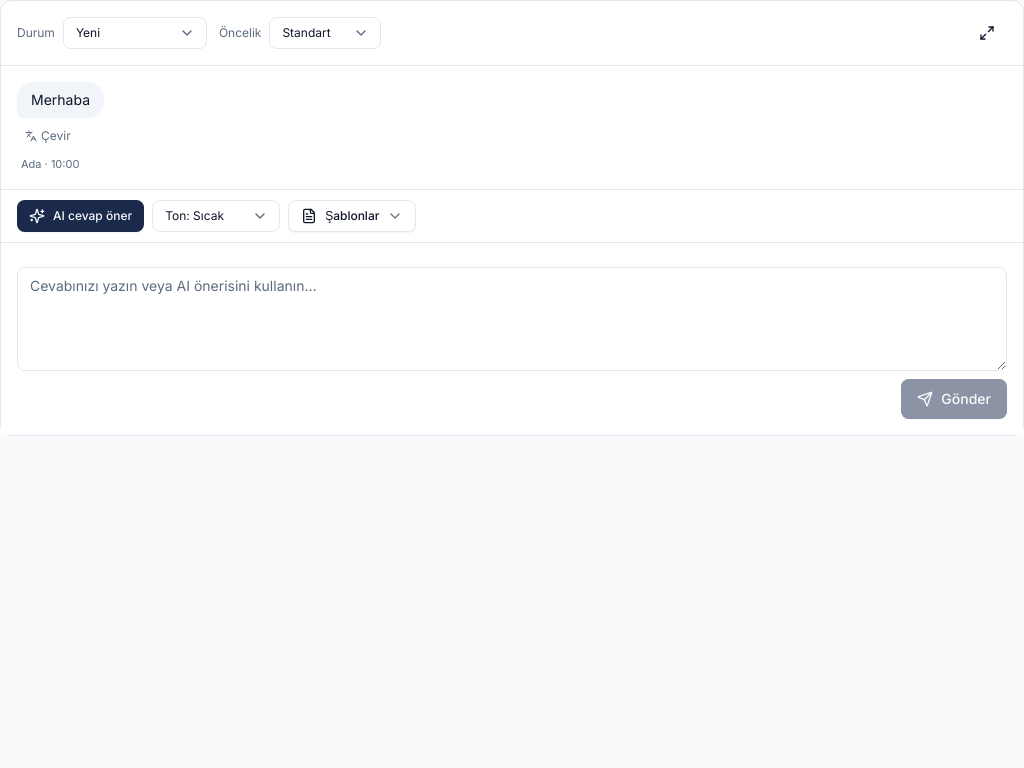
Scenario: şablon seçici — sayfalı liste + seçilince tam metin › ağ hatasında kendi metni duyurulur (sunucu iletisi yoksa)
Click the button "Şablonlar" at x=352, y=216, box [288,200,416,232]
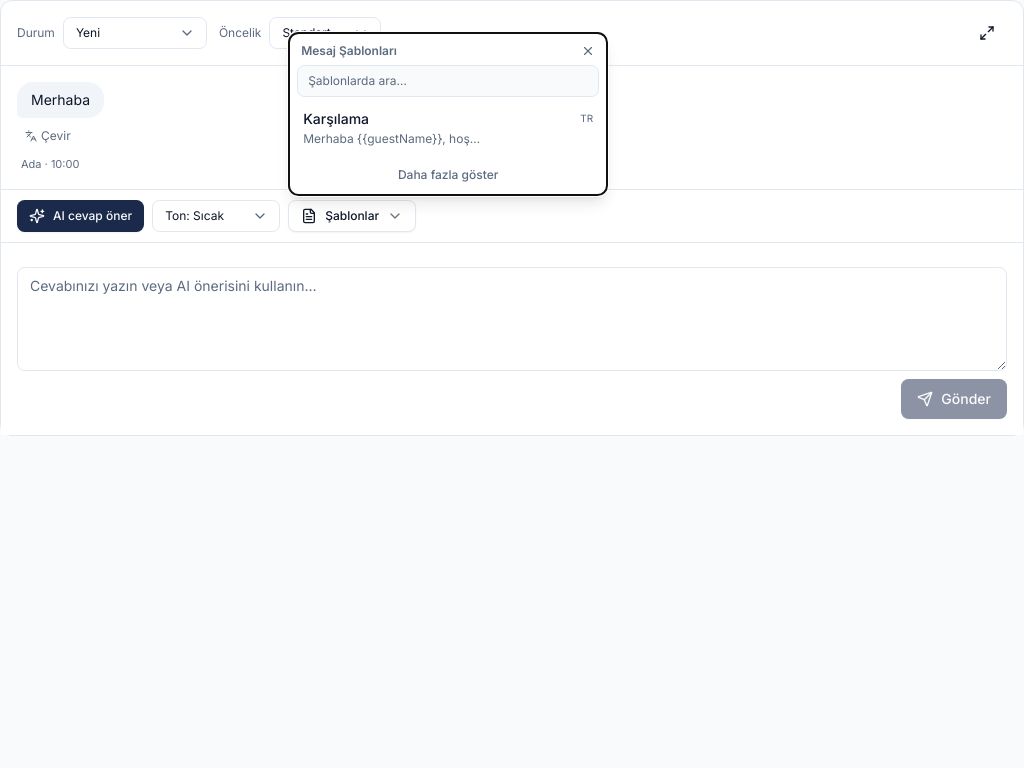
Click the button "Karşılama tr Merhaba {{guestName}}, hoş…" at x=448, y=128, box [293,100,603,154]
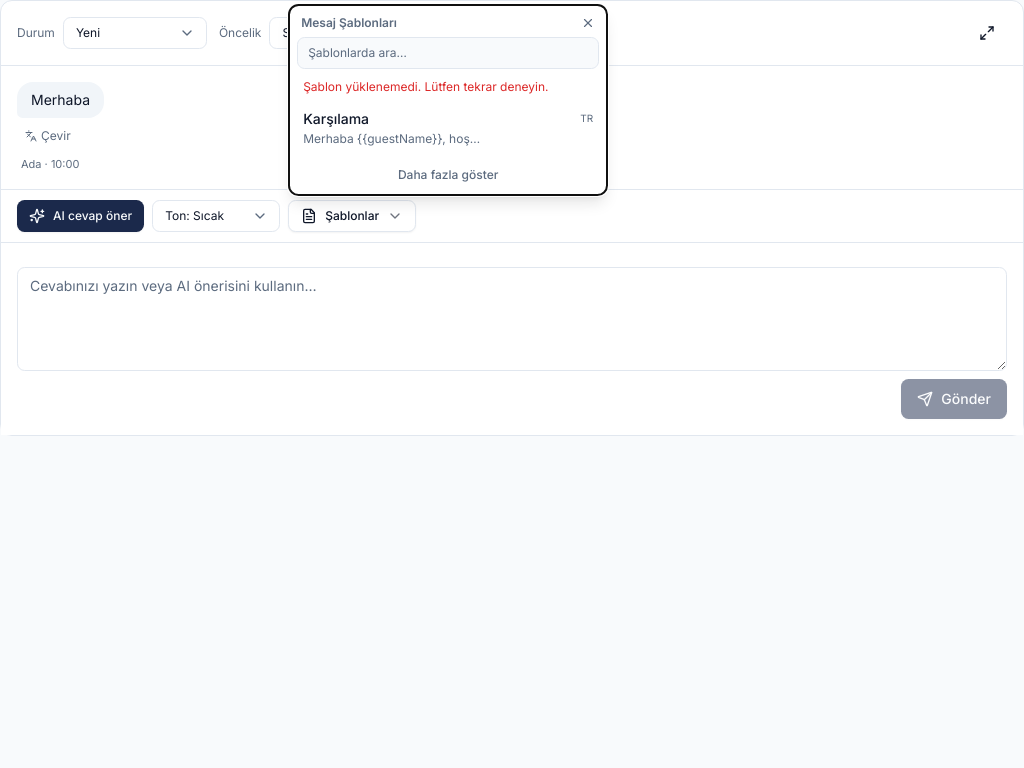
Expected: the text box named "Misafire cevabınız" is empty, [17,266,1007,370]
Now the text "Şablon yüklenemedi. Lütfen tekrar deneyin." is shown, box [303,78,548,94]
